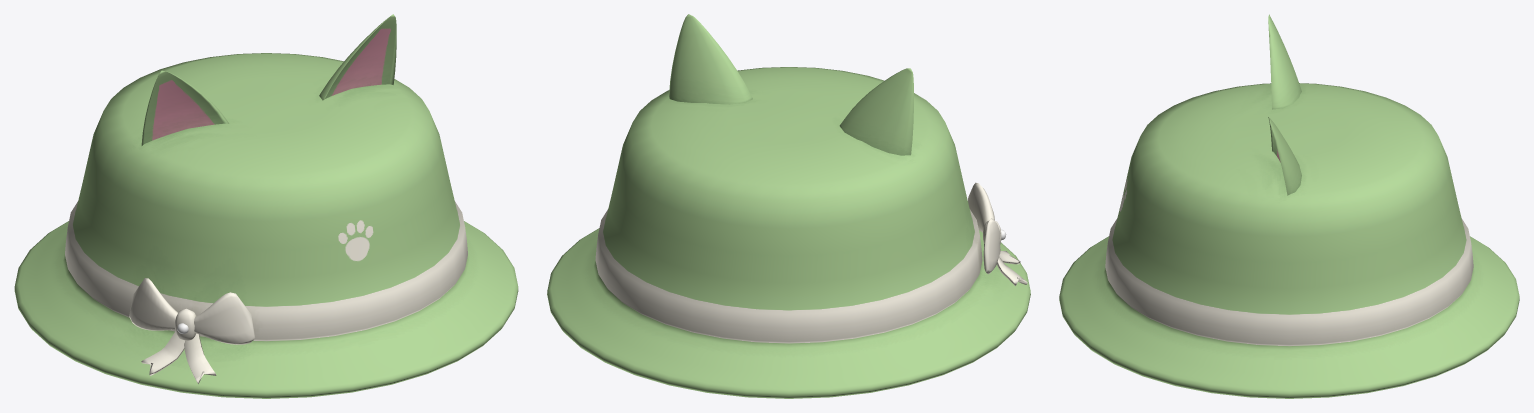
File: NekoBucketHat_Matcha.fbx
3 renders of one model, left to right at view 1: azimuth 30°, elevation 25°; view 2: azimuth 150°, elevation 25°; view 3: azimuth 270°, elevation 25°, orthographic. The views are drawn at different scales.
Visible parts, largest first — view 1: NekoBucketHat; view 2: NekoBucketHat; view 3: NekoBucketHat.
Part boxes in pixels (x1,y1,x2,y2): NekoBucketHat: (14,14,518,398); NekoBucketHat: (547,14,1030,398); NekoBucketHat: (1059,14,1519,398).
Size of the model in its own units: 1.74 by 0.9888 by 1.74.
1 material, 1 textured.
